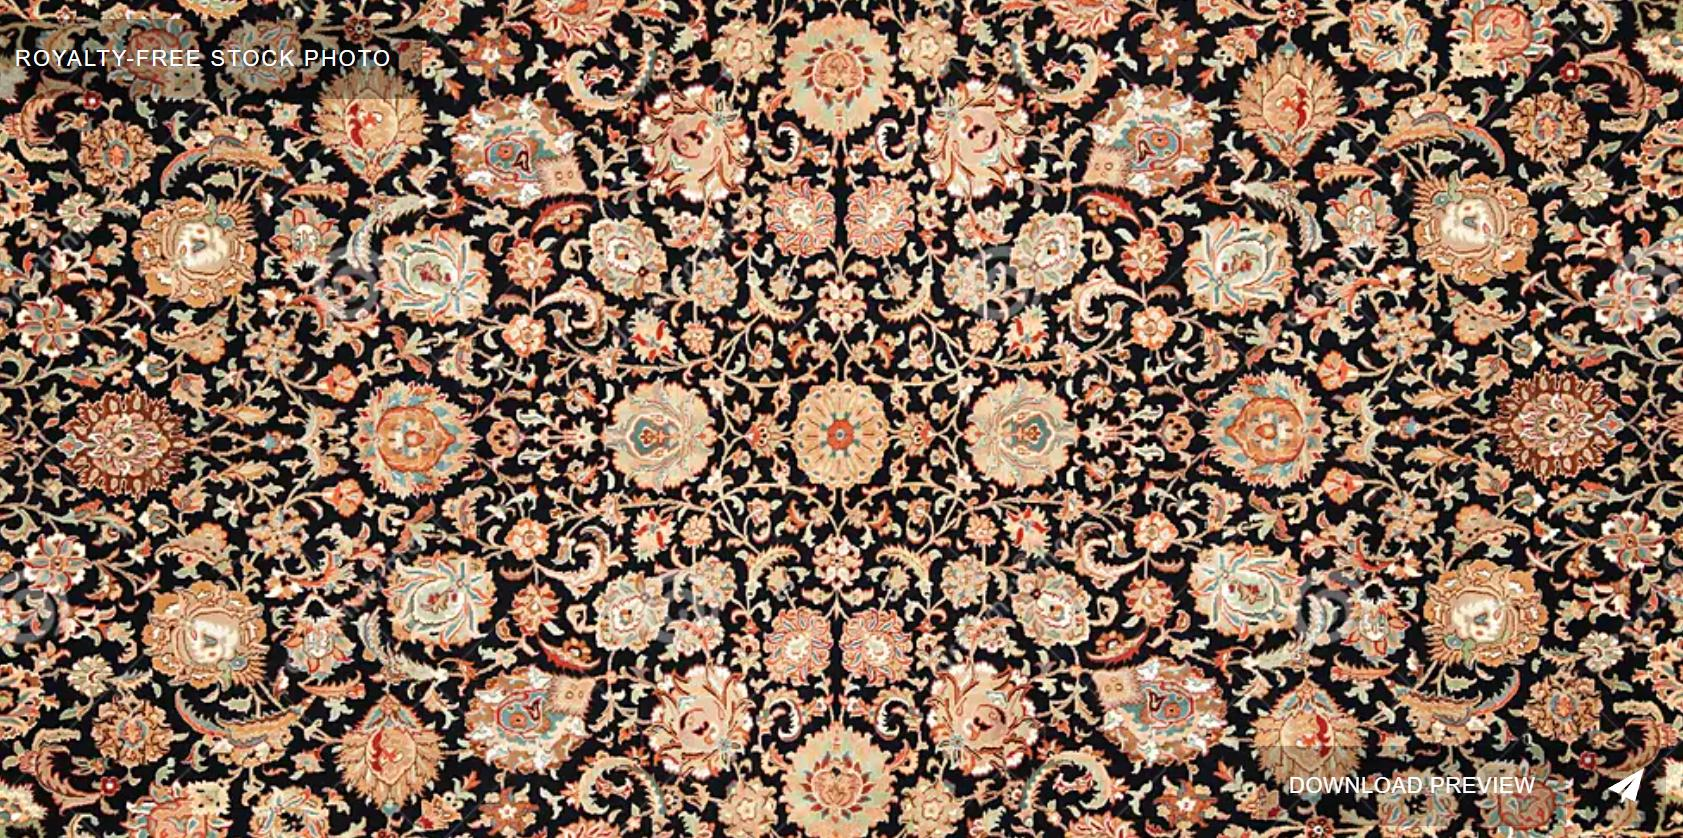carpet: (0, 0, 1683, 835)
